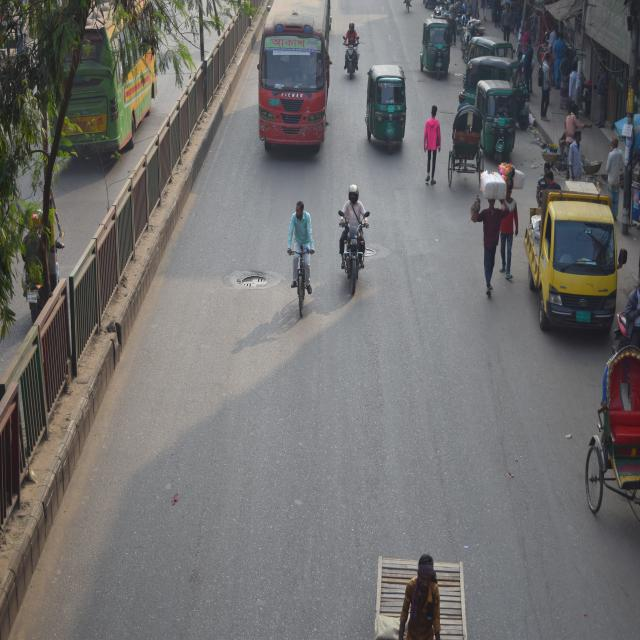bus: (245, 0, 336, 178)
motorbike: (339, 188, 382, 297), (343, 15, 370, 81)
pickup-van: (515, 193, 640, 344)
